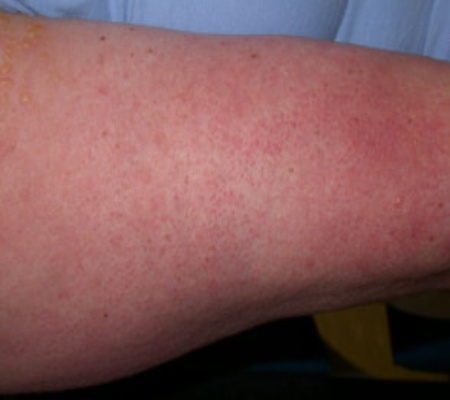SJS-TEN: (206, 35, 450, 305), (0, 9, 78, 135)
